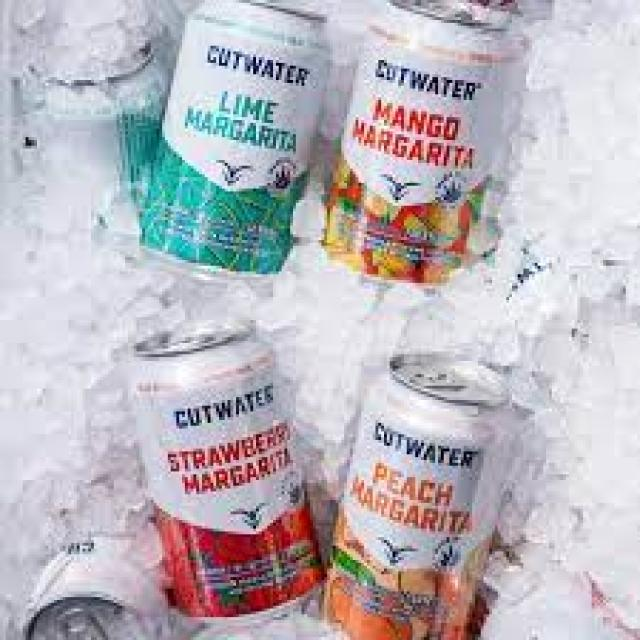Cans: (108, 311, 336, 623), (318, 351, 518, 640), (327, 3, 515, 297), (142, 3, 336, 283)
